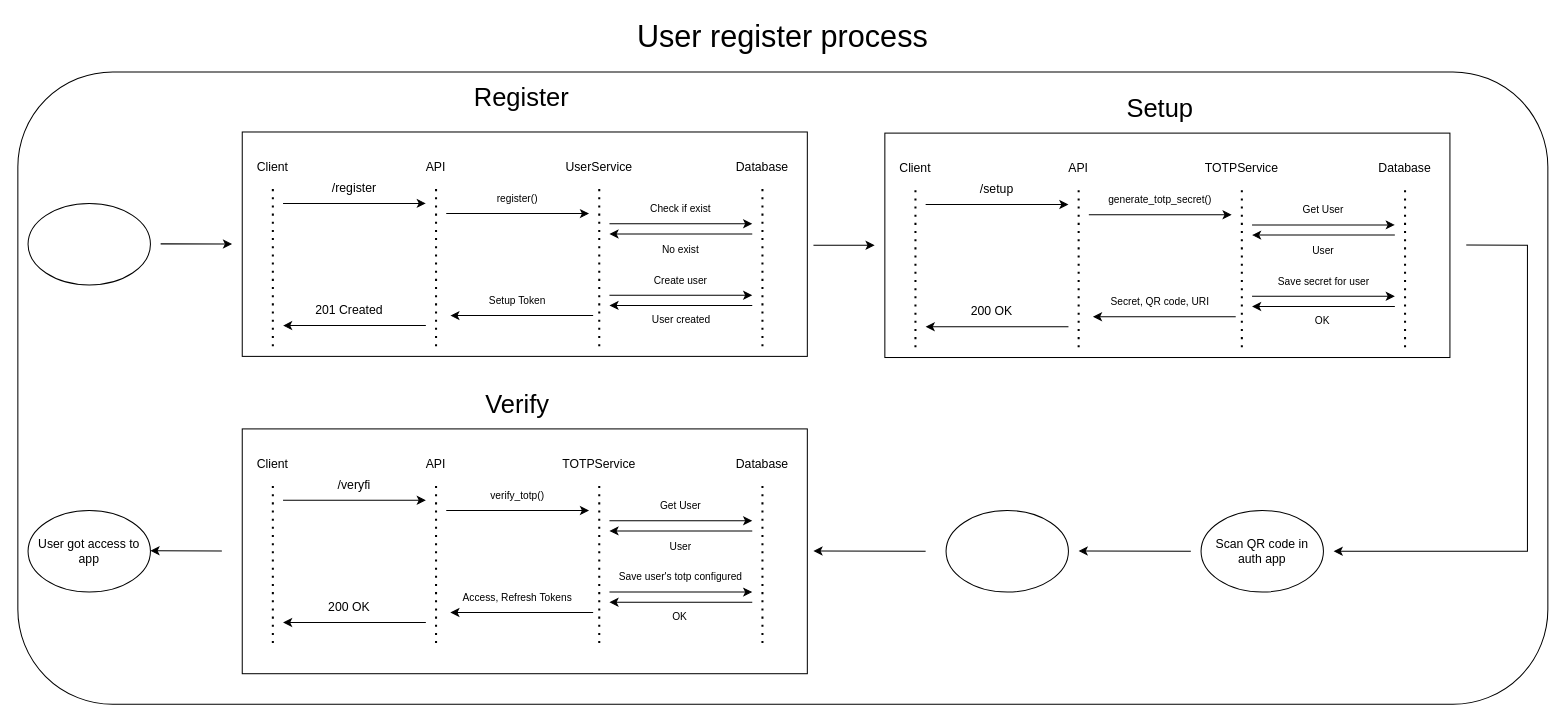
The diagram is 1566 pixels wide and 722 high, and some of its shapes have lost their labels. The shapes that lost their labels are listed below. From the top down, each one's centre as x and y in pixels, then its label:
the point at 88,243: User want to register
the point at 1006,550: Get totp code
